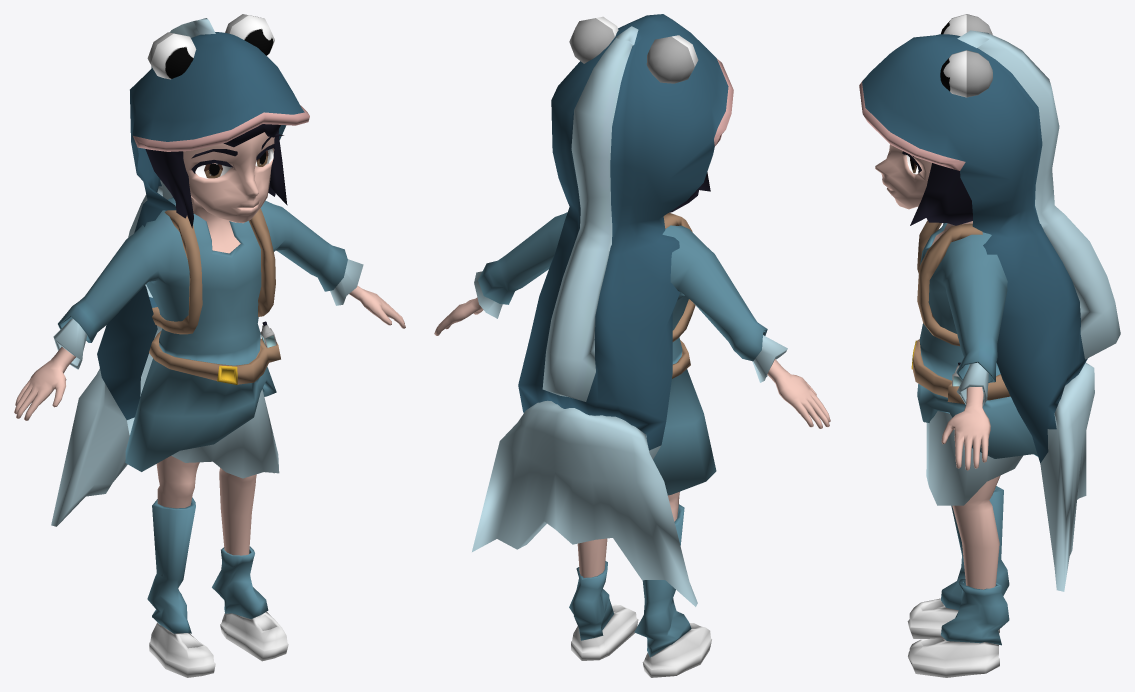
File: Antia_Modelo_Final_Skinning.fbx
3 renders of one model, left to right at view 1: azimuth 30°, elevation 25°; view 2: azimuth 150°, elevation 25°; view 3: azimuth 270°, elevation 25°, orthographic. The views are drawn at different scales.
Visible parts, largest first — view 1: Cuerpo; view 2: Cuerpo; view 3: Cuerpo.
Part boxes in pixels (x1,y1,x2,y2): Cuerpo: [14, 14, 405, 677]; Cuerpo: [434, 14, 830, 677]; Cuerpo: [859, 14, 1120, 677].
Bounding box in the file's own units: 317 × 489 × 187.
